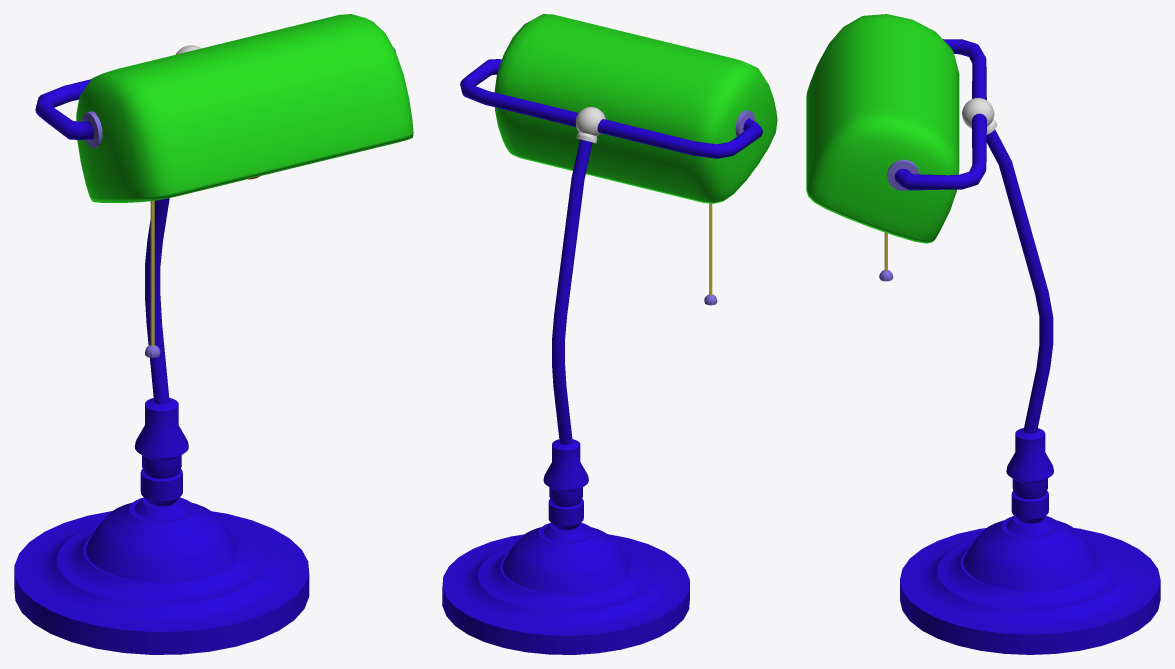
Rendered from BankersLamp.fbx.
3 renders of one model, left to right at view 1: azimuth 30°, elevation 25°; view 2: azimuth 150°, elevation 25°; view 3: azimuth 270°, elevation 25°, orthographic. The views are drawn at different scales.
Visible parts, largest first — view 1: BankersLamp; view 2: BankersLamp; view 3: BankersLamp.
Boxes of the visible parts, x1,y1,x2,y2 form: BankersLamp: [14, 14, 413, 654]; BankersLamp: [442, 14, 777, 654]; BankersLamp: [806, 14, 1160, 654].
Size of the model in its own units: 23.06 by 40.49 by 24.31.
